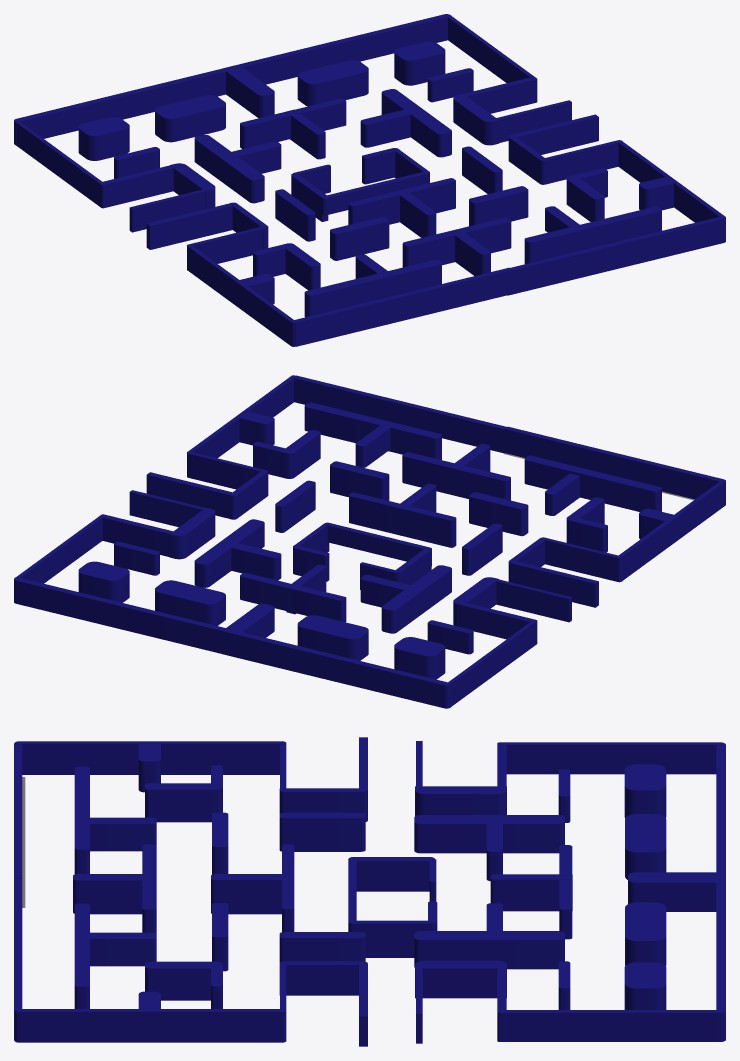
File: map.obj
The picture shows the model from 3 angles, top to bottom: view 1: azimuth 30°, elevation 25°; view 2: azimuth 150°, elevation 25°; view 3: azimuth 270°, elevation 25°; orthographic projection. The views are drawn at different scales.
Visible parts, largest first — view 1: polySurface57; view 2: polySurface57; view 3: polySurface57, pCube56.
Part boxes in pixels (x1,y1,x2,y2): polySurface57: (14, 14, 725, 346); polySurface57: (14, 375, 725, 708); polySurface57: (14, 737, 725, 1046); pCube56: (22, 777, 25, 907).
Size of the model in its own units: 7.63 by 0.6707 by 8.24.
